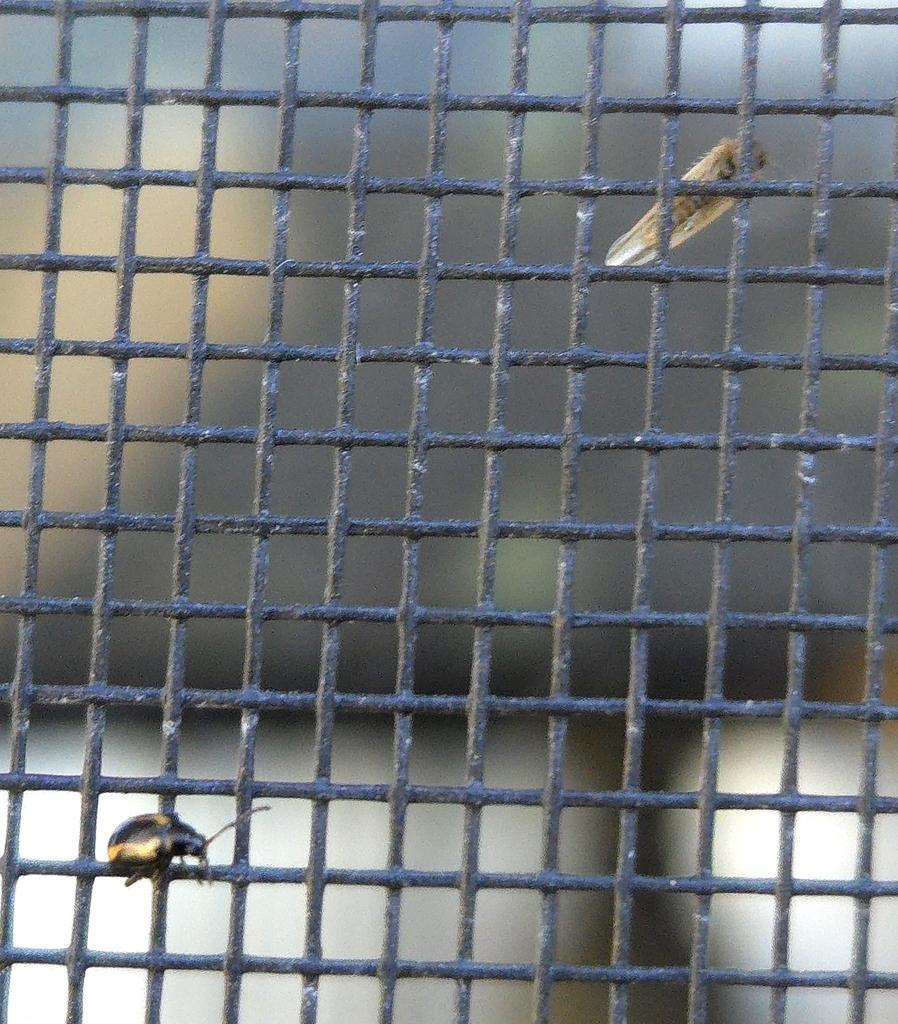flea_beetle: (74, 756, 281, 922)
